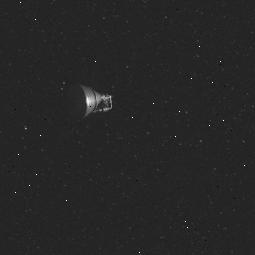debris: (59, 85, 118, 121)
